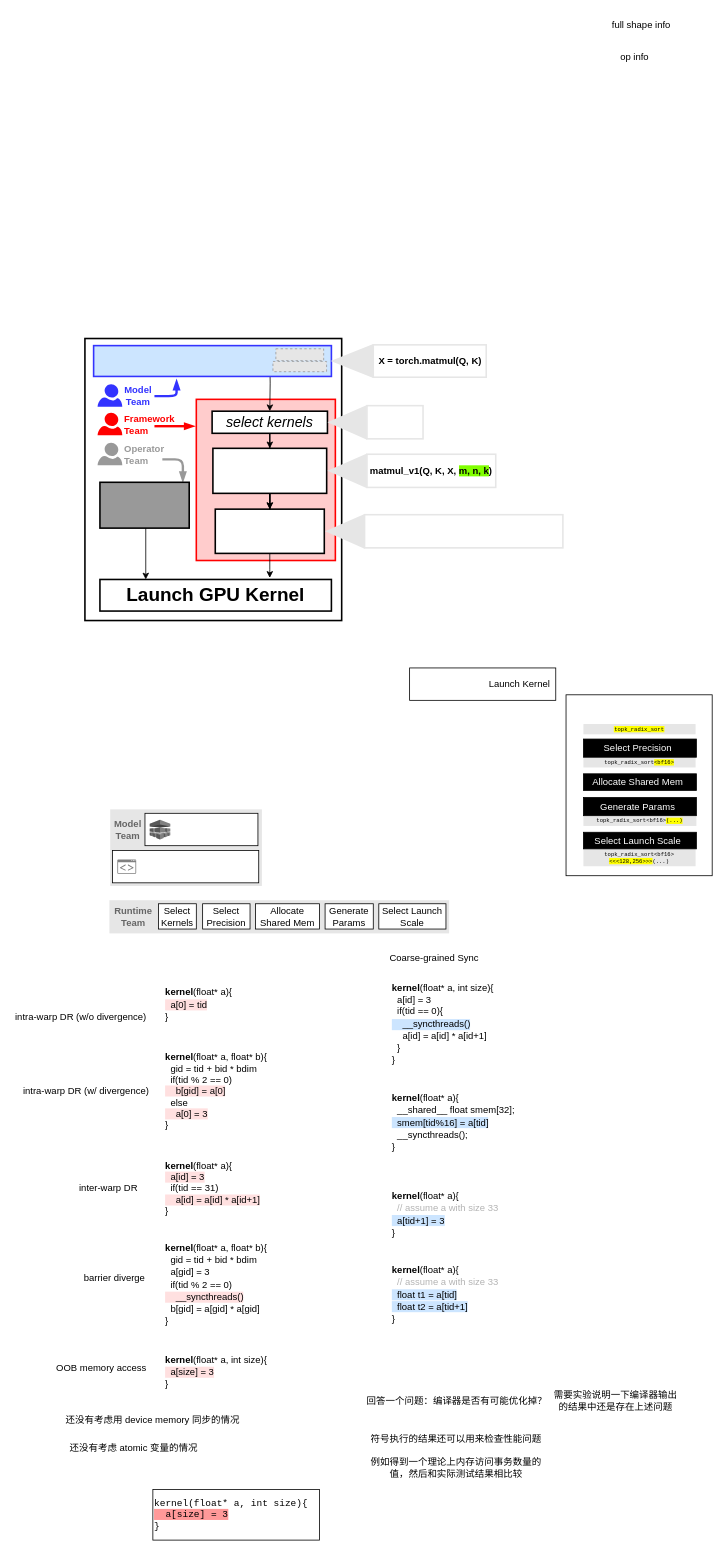
The diagram is 726 pixels wide and 1554 high, and some of its shapes have lost their labels. Grey dashed boxes stand in for pictures. Here are the shapes that lost their labels. From the top down, the box of each, then its label:
(92, 344, 332, 377): Tensor Program
(366, 404, 423, 439): matmul_v1
(212, 447, 327, 494): generate launch param.
(99, 481, 190, 529): Kernel Code
(214, 508, 325, 554): generate launch scale
(363, 514, 563, 548): matmul_v1 <<<128, 256>>> (Q, K, X, m, n, k)
(144, 813, 258, 846): Model Definition
(112, 850, 259, 883): Train / Inference Scripts
